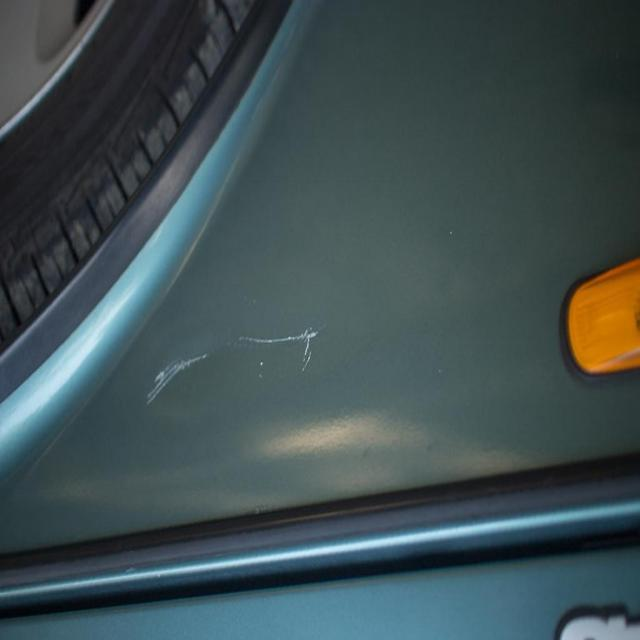scratch: (149, 302, 341, 427)
